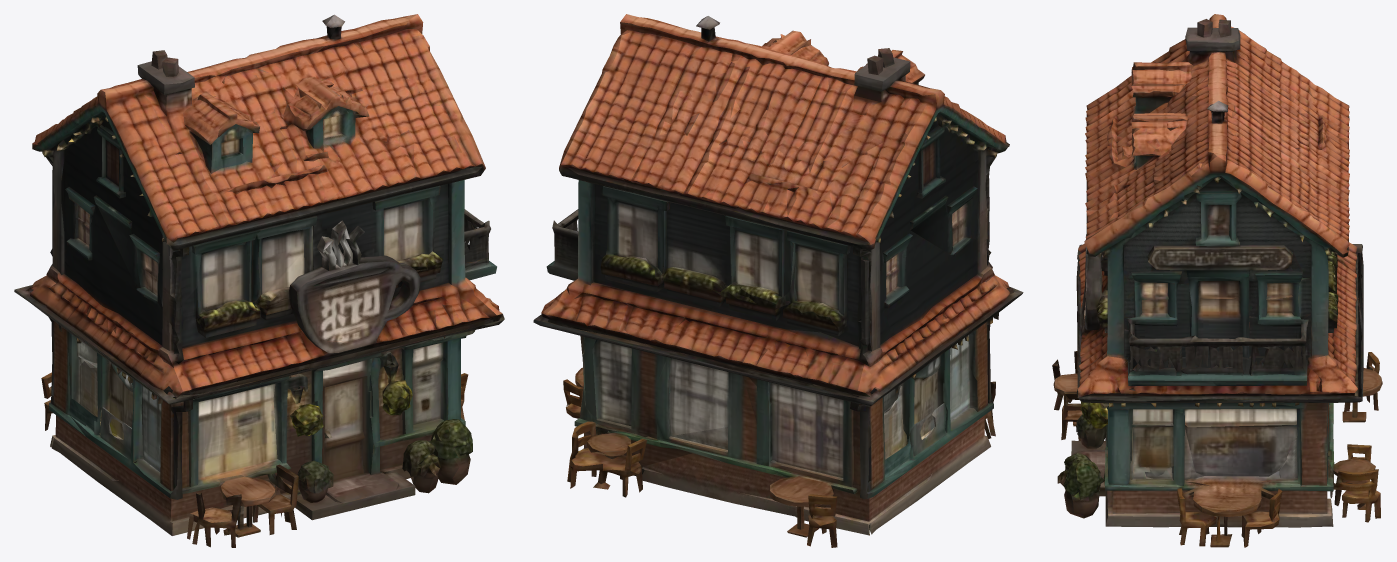
Rendered from B_CAFE_neon.glb.
The picture shows the model from 3 angles, left to right: view 1: azimuth 30°, elevation 25°; view 2: azimuth 150°, elevation 25°; view 3: azimuth 270°, elevation 25°; orthographic projection. The views are drawn at different scales.
Parts seen in each view (by area): view 1: world; view 2: world; view 3: world.
Boxes of the visible parts, bbox=[...] form: world: bbox=[14, 14, 504, 547]; world: bbox=[533, 14, 1023, 547]; world: bbox=[1052, 14, 1382, 547].
Bounding box in the file's own units: 0.8987 × 0.9984 × 0.7539.
1 material, 1 textured.
